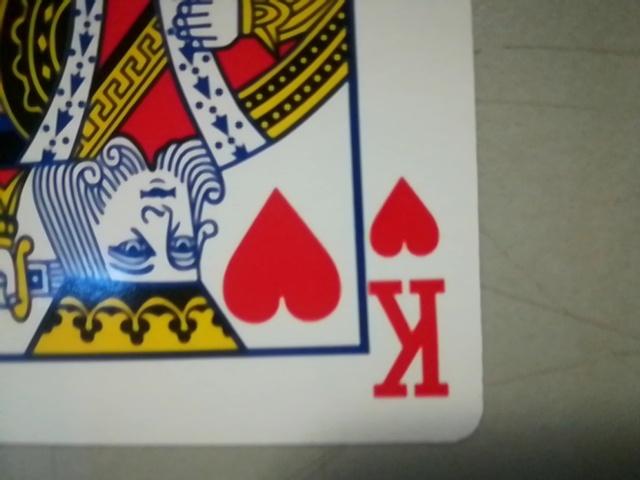hx k: (354, 171, 470, 414)
